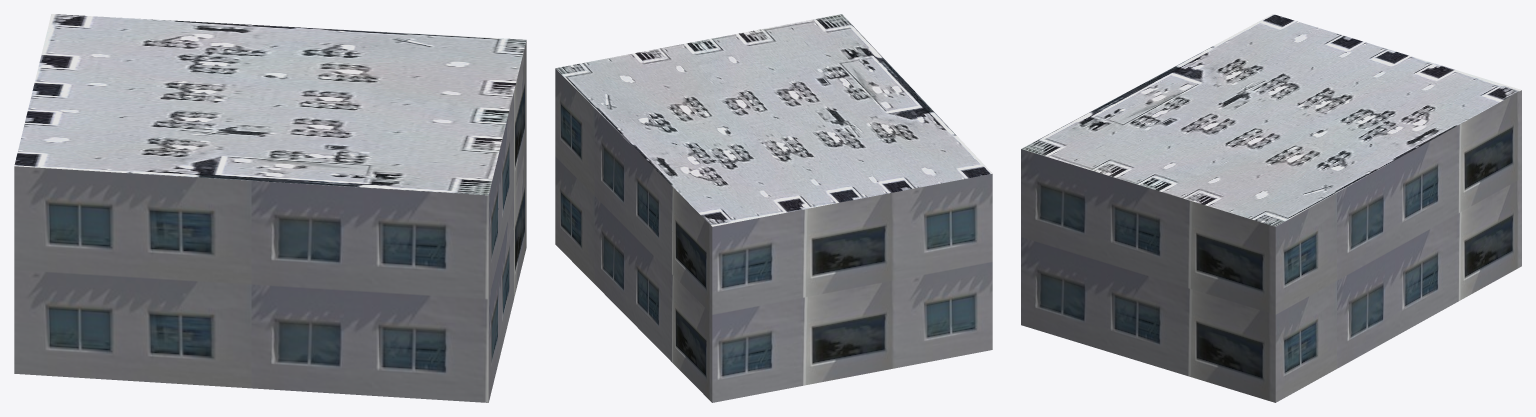
Rendered from ResTex__3764.fbx.
The picture shows the model from 3 angles, left to right: view 1: azimuth 30°, elevation 25°; view 2: azimuth 150°, elevation 25°; view 3: azimuth 270°, elevation 25°; orthographic projection. The views are drawn at different scales.
Visible parts, largest first — view 1: CityEngineMaterial_10_m, CityEngineMaterial_4_m; view 2: CityEngineMaterial_10_m, CityEngineMaterial_4_m; view 3: CityEngineMaterial_10_m, CityEngineMaterial_4_m.
Part boxes in pixels (<box>): CityEngineMaterial_10_m: <box>14,41,526,402</box>; CityEngineMaterial_4_m: <box>14,14,526,195</box>; CityEngineMaterial_10_m: <box>555,68,992,402</box>; CityEngineMaterial_4_m: <box>555,14,992,226</box>; CityEngineMaterial_10_m: <box>1021,90,1521,402</box>; CityEngineMaterial_4_m: <box>1021,14,1521,226</box>.
Size of the model in its own units: 15.54 by 6 by 15.46.
Materials: 2 (2 with a texture image).
